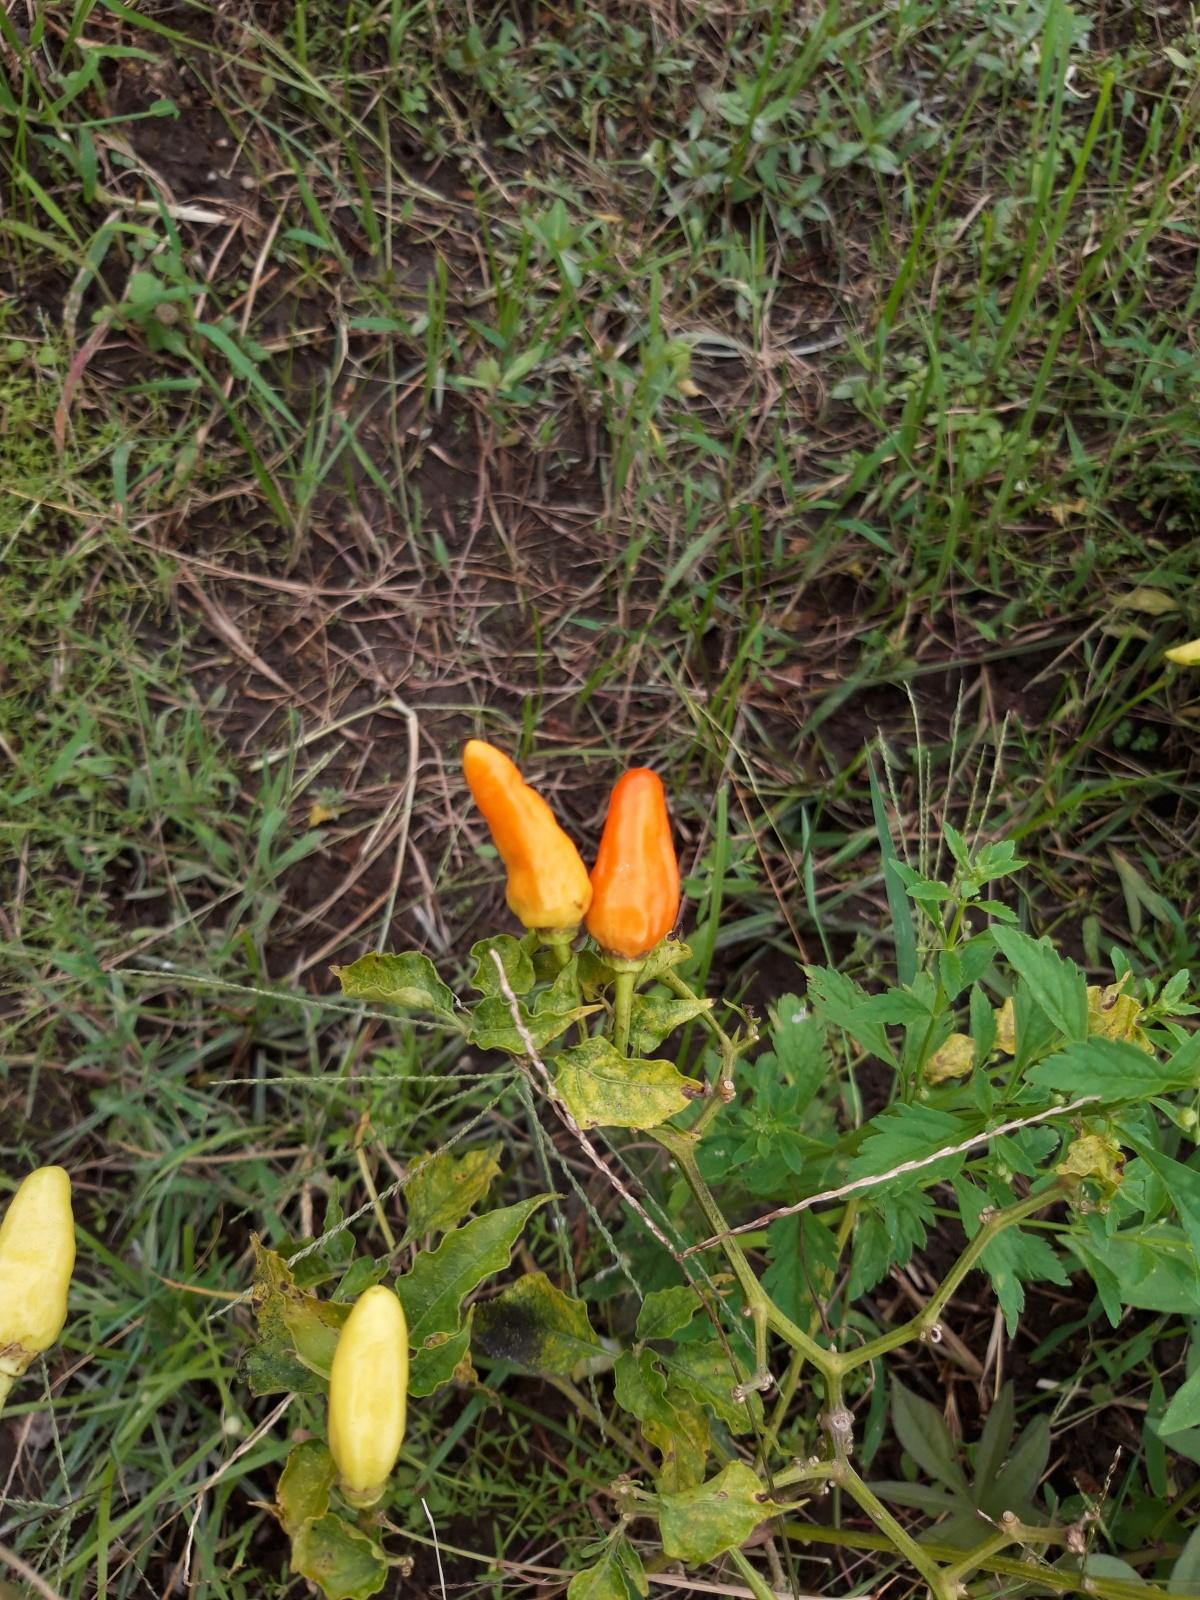cabai_normal: (463, 740, 592, 929), (587, 769, 679, 956), (326, 1285, 408, 1495), (0, 1165, 77, 1359)
